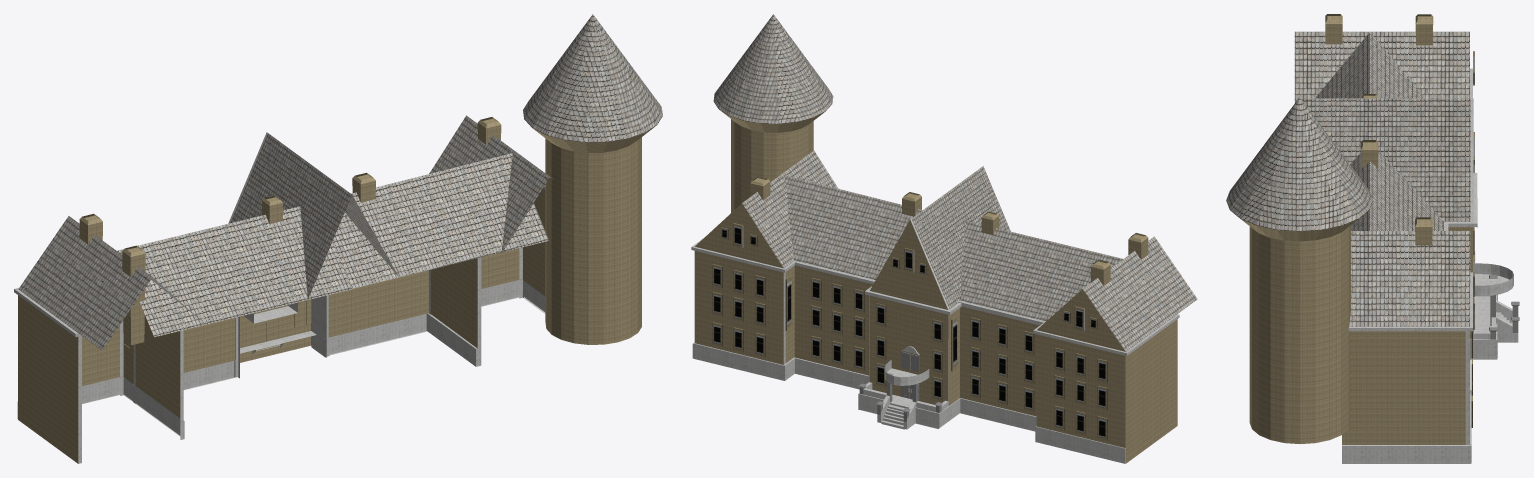
Rendered from Sanctuary.fbx.
3 renders of one model, left to right at view 1: azimuth 30°, elevation 25°; view 2: azimuth 150°, elevation 25°; view 3: azimuth 270°, elevation 25°, orthographic. The views are drawn at different scales.
Visible parts, largest first — view 1: Sanctuary; view 2: Sanctuary; view 3: Sanctuary.
Part boxes in pixels (box(x1,y1,x2,y2)): Sanctuary: box(14, 14, 662, 463); Sanctuary: box(691, 14, 1197, 463); Sanctuary: box(1226, 14, 1519, 463).
Bounding box in the file's own units: 50.19 × 29.87 × 21.94.
